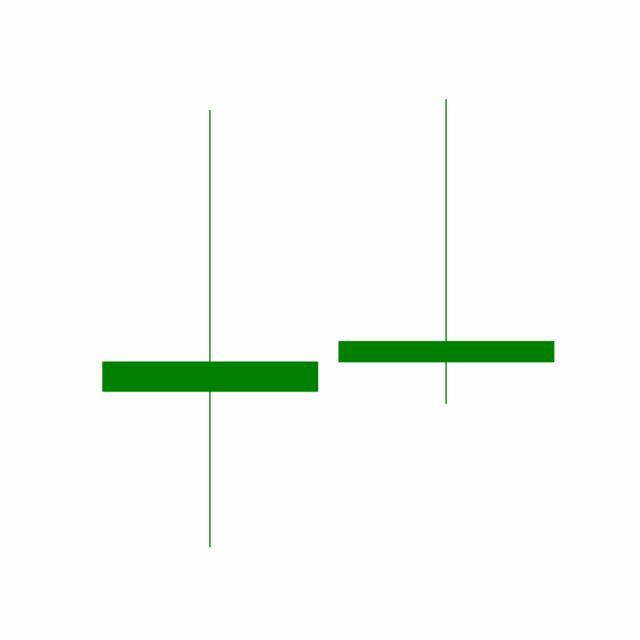Gravestone Doji: (328, 96, 566, 407)
